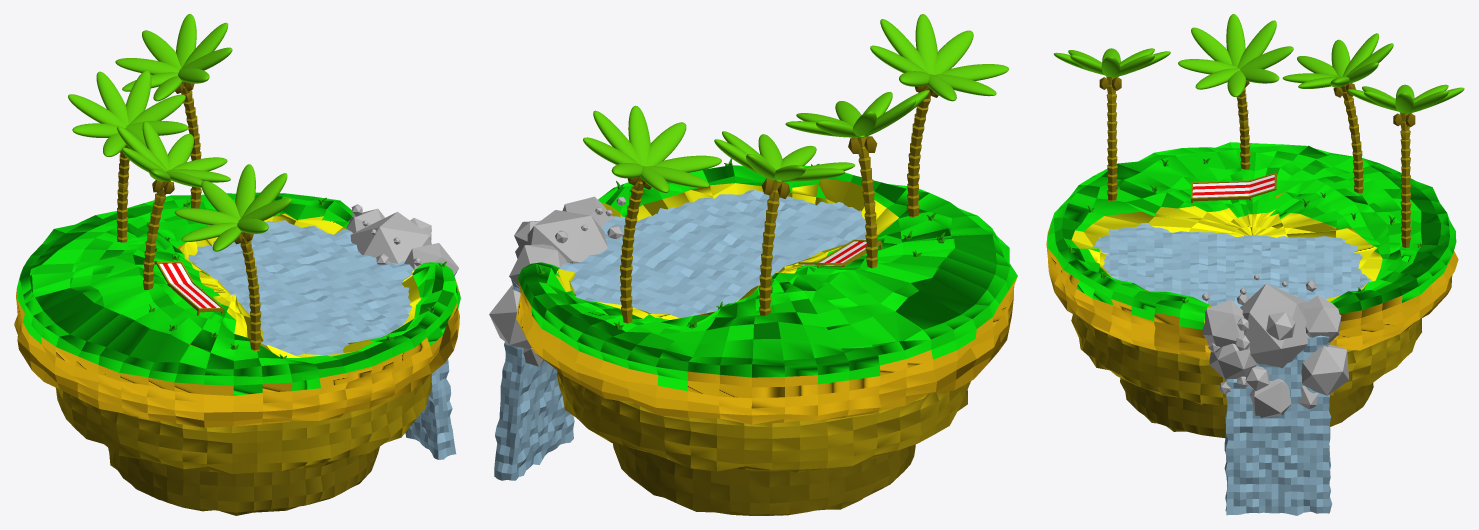
The model's file is island_2.glb.
3 renders of one model, left to right at view 1: azimuth 30°, elevation 25°; view 2: azimuth 150°, elevation 25°; view 3: azimuth 270°, elevation 25°, orthographic. The views are drawn at different scales.
Visible parts, largest first — view 1: Cylinder_1_2, Plane_2, Cylinder_2_3, Cylinder_2_2, Cube, Sphere_2, Cylinder_2_9, Cylinder_2_7, Cylinder_2_5, Cylinder_2_11, Sphere_6_3, Sphere_2_4 (+21 smaller); view 2: Cylinder_1_2, Plane_2, Cylinder_2_3, Cylinder_2_2, Cube, Sphere_2, Cylinder_2_11, Cylinder_2_5, Cylinder_2_7, Cylinder_2_9, Sphere_4, Sphere (+14 smaller); view 3: Cylinder_1_2, Plane_2, Cube, Cylinder_2_3, Cylinder_2_2, Sphere_2, Sphere_4, Sphere_3, Sphere, Cylinder_2_11, Sphere_5, Sphere_1 (+13 smaller).
Boxes of the visible parts, box(x1,y1,x2,y2) form: Cylinder_1_2: box(14, 192, 460, 428); Plane_2: box(188, 220, 414, 355); Cylinder_2_3: box(56, 374, 432, 473); Cylinder_2_2: box(108, 446, 379, 515); Cube: box(405, 359, 456, 459); Sphere_2: box(350, 212, 431, 263); Cylinder_2_9: box(240, 231, 261, 351); Cylinder_2_7: box(143, 180, 170, 289); Cylinder_2_5: box(116, 145, 129, 242); Cylinder_2_11: box(181, 81, 201, 208); Sphere_6_3: box(126, 70, 151, 124); Sphere_2_4: box(96, 71, 128, 125); Cylinder_1_2: box(516, 165, 1017, 424); Plane_2: box(560, 190, 866, 317); Cylinder_2_3: box(557, 370, 970, 472); Cylinder_2_2: box(612, 443, 915, 515); Cube: box(494, 279, 574, 480); Sphere_2: box(515, 210, 607, 263); Cylinder_2_11: box(620, 176, 643, 323); Cylinder_2_5: box(759, 181, 782, 315); Cylinder_2_7: box(857, 136, 878, 268); Cylinder_2_9: box(907, 85, 930, 217); Sphere_4: box(489, 284, 531, 348); Sphere: box(509, 244, 566, 287); Cylinder_1_2: box(1046, 142, 1458, 360); Plane_2: box(1092, 222, 1371, 307); Cube: box(1224, 335, 1332, 515); Cylinder_2_3: box(1071, 314, 1421, 405); Cylinder_2_2: box(1120, 378, 1373, 438); Sphere_2: box(1240, 283, 1309, 368); Sphere_4: box(1301, 344, 1349, 395); Sphere_3: box(1202, 299, 1244, 347); Sphere: box(1303, 295, 1341, 342); Cylinder_2_11: box(1400, 113, 1411, 247); Sphere_5: box(1249, 379, 1291, 417); Sphere_1: box(1209, 343, 1256, 379).
Size of the model in its own units: 4.98 by 4.65 by 4.84.
